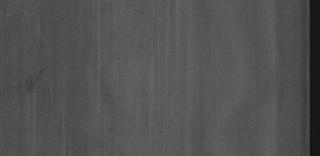water spot: (18, 64, 46, 95)
